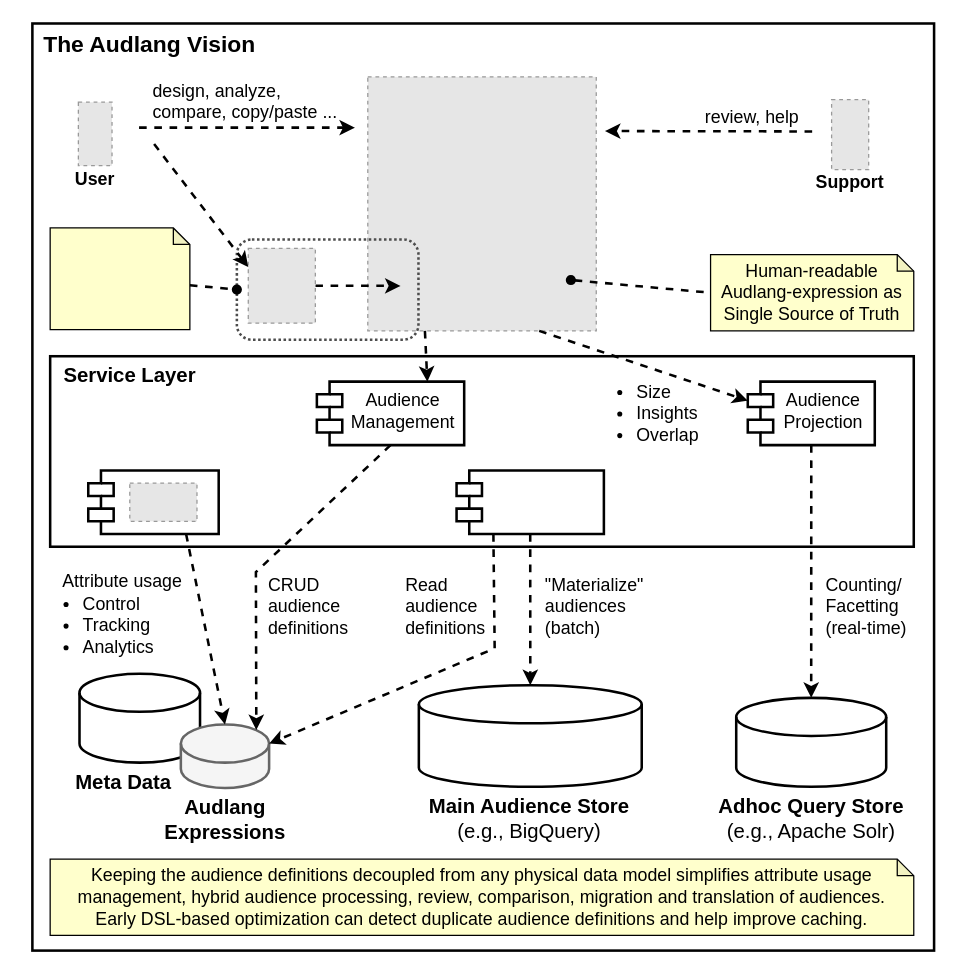
Image size: 959x973. Some labels were removed from this diagram. Grey dashed boxes stand in for pictures. The shapes that lost their labels are listed below. From the top down, each one's centre as x and y in pixels, then its label:
(119,278): Minimize "AI-blackbox" to reduce cost and uncertainty
(530,502): Audience Processing
